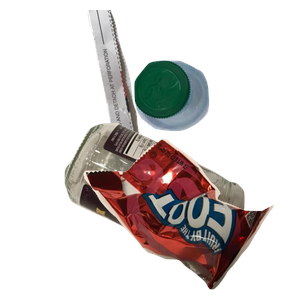glass: (62, 120, 300, 300)
paper: (85, 10, 224, 190)
plastic: (132, 58, 300, 182)
trash: (81, 136, 300, 300)
